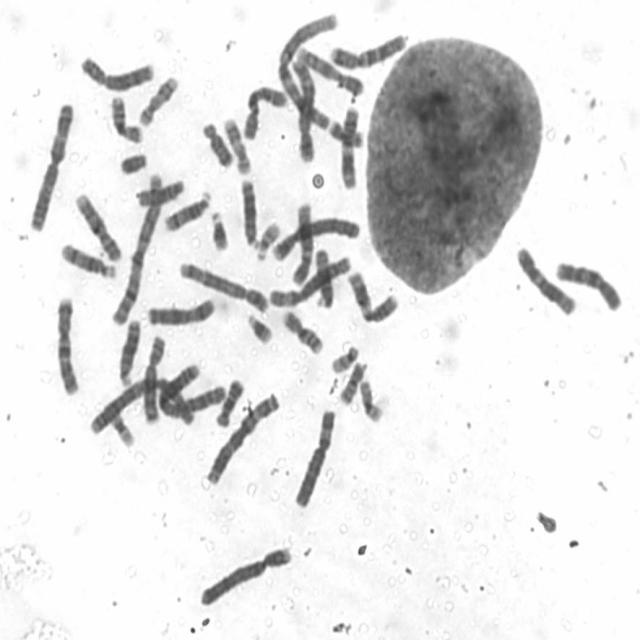A1: (111, 172, 165, 325), (276, 12, 340, 131)
A2: (88, 376, 195, 438), (158, 364, 228, 417)
A3: (204, 394, 280, 486), (29, 102, 76, 232)
B4: (200, 542, 293, 609), (271, 217, 361, 263)
B5: (178, 263, 269, 311), (290, 59, 316, 162)
C10: (554, 262, 622, 313), (240, 84, 289, 141)
C11: (347, 269, 401, 325), (340, 104, 363, 189)
C12: (515, 246, 576, 316), (290, 200, 314, 287)
C6: (293, 407, 337, 509), (269, 254, 351, 308)
C7: (330, 31, 408, 72), (56, 295, 81, 395)
C8: (79, 53, 156, 93), (142, 334, 168, 424)
C9: (295, 45, 365, 95), (73, 193, 121, 261)
D13: (118, 317, 142, 389), (238, 179, 260, 249)
D14: (58, 243, 116, 280), (164, 191, 212, 232)
D15: (136, 179, 185, 207), (314, 248, 336, 310)
E16: (282, 310, 324, 355), (110, 97, 144, 145)
E17: (140, 76, 178, 127), (222, 117, 251, 175)
E18: (202, 119, 234, 168), (214, 378, 243, 430)
F19: (105, 406, 136, 448), (358, 381, 384, 424)
F20: (327, 118, 365, 151), (341, 362, 368, 404)
G21: (246, 312, 273, 346), (210, 209, 228, 254)
G22: (256, 221, 280, 262), (332, 344, 359, 375)
X: (147, 298, 215, 326)
Y: (119, 152, 148, 176)
